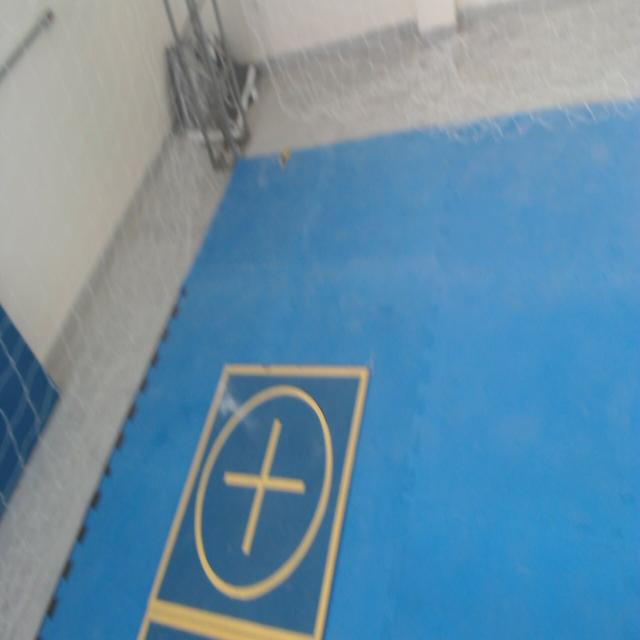base_pouso: (144, 361, 373, 639)
